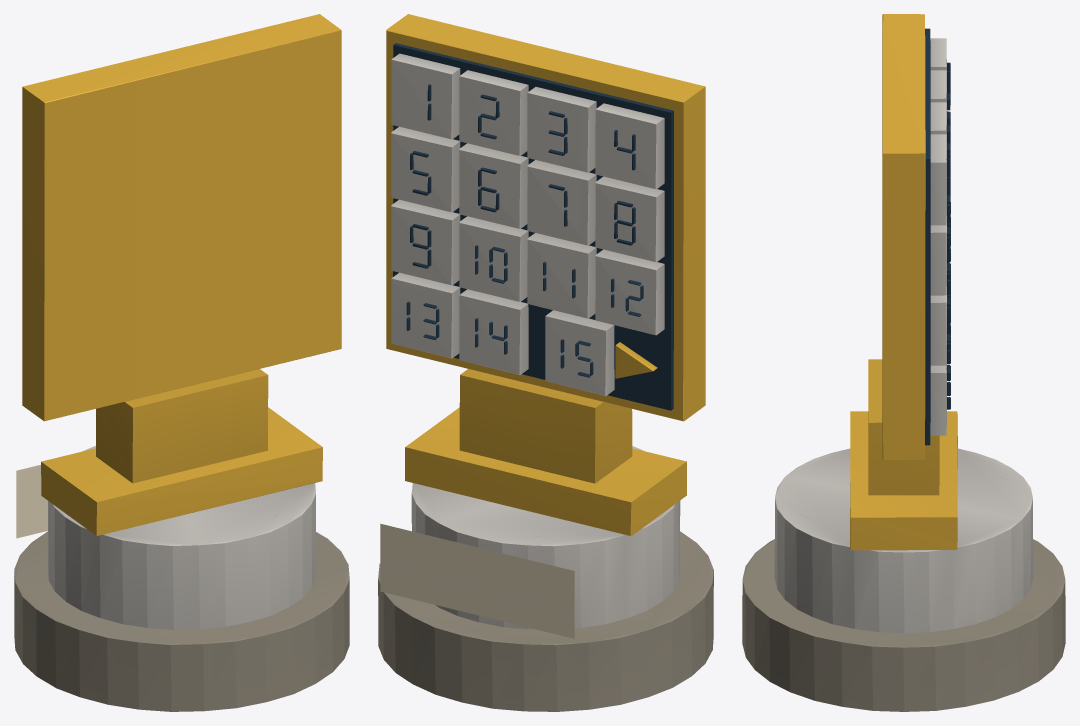
The model's file is trophy_slide_low.glb.
The picture shows the model from 3 angles, left to right: view 1: azimuth 30°, elevation 25°; view 2: azimuth 150°, elevation 25°; view 3: azimuth 270°, elevation 25°; orthographic projection. The views are drawn at different scales.
Parts seen in each view (by area): view 1: symbol, common_pedestal, trophy_plate; view 2: symbol, common_pedestal, trophy_plate; view 3: common_pedestal, symbol.
Part boxes in pixels (x1,y1,x2,y2): symbol: [22, 14, 341, 535]; common_pedestal: [14, 446, 349, 711]; trophy_plate: [16, 465, 47, 538]; symbol: [386, 14, 705, 536]; common_pedestal: [378, 446, 713, 711]; trophy_plate: [380, 523, 574, 638]; common_pedestal: [742, 448, 1065, 711]; symbol: [850, 14, 957, 550].
Bounding box in the file's own units: 0.9181 × 1.72 × 0.8987.
